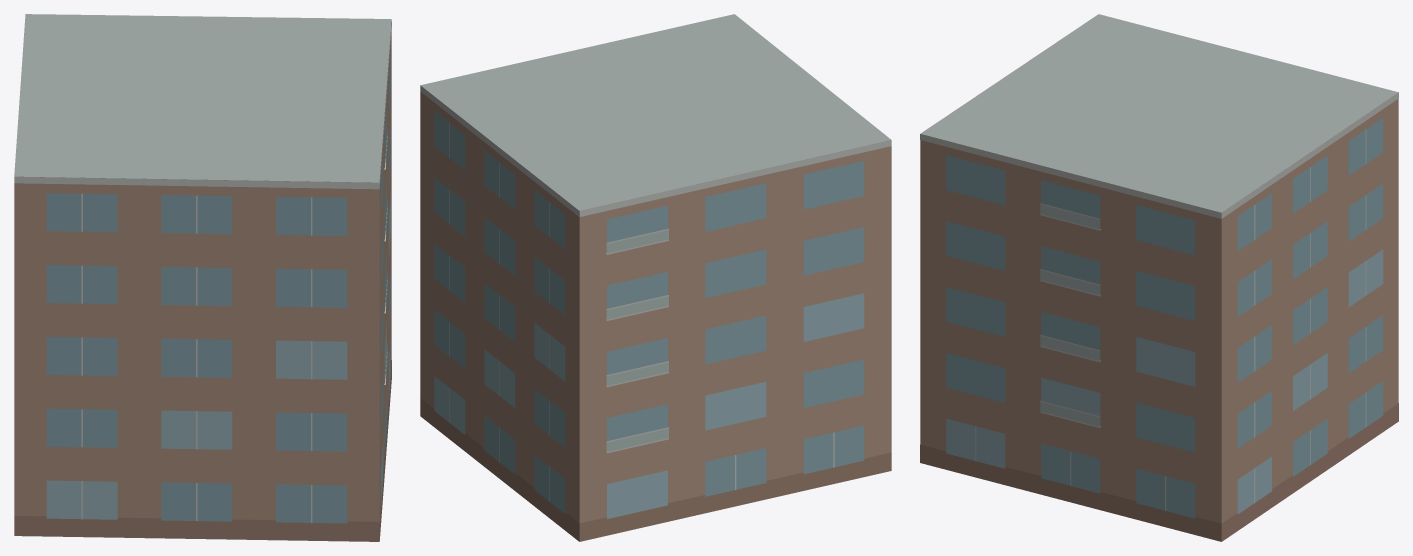
The model's file is survey-upis-32974497.glb.
The picture shows the model from 3 angles, left to right: view 1: azimuth 30°, elevation 25°; view 2: azimuth 150°, elevation 25°; view 3: azimuth 270°, elevation 25°; orthographic projection. The views are drawn at different scales.
Parts seen in each view (by area): view 1: survey-upis-32974497.tmp; view 2: survey-upis-32974497.tmp; view 3: survey-upis-32974497.tmp.
Boxes of the visible parts, <box> form: survey-upis-32974497.tmp: <box>14,14,391,541</box>; survey-upis-32974497.tmp: <box>420,14,891,541</box>; survey-upis-32974497.tmp: <box>920,14,1398,541</box>.
Size of the model in its own units: 16.98 by 13.1 by 17.27.
